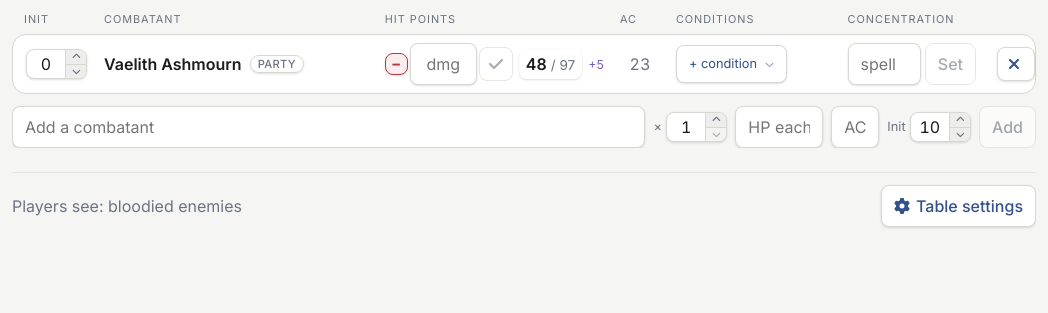
Test: the DM board › takes deltas first — damage, +heal — with direct set as the hatch
Type "Ogre" into the field named "Combatant name" at (329,127), box [12,106,645,148]
Type "59" into the field named "Hit points each (optional)" at (779,127), box [735,106,823,148]
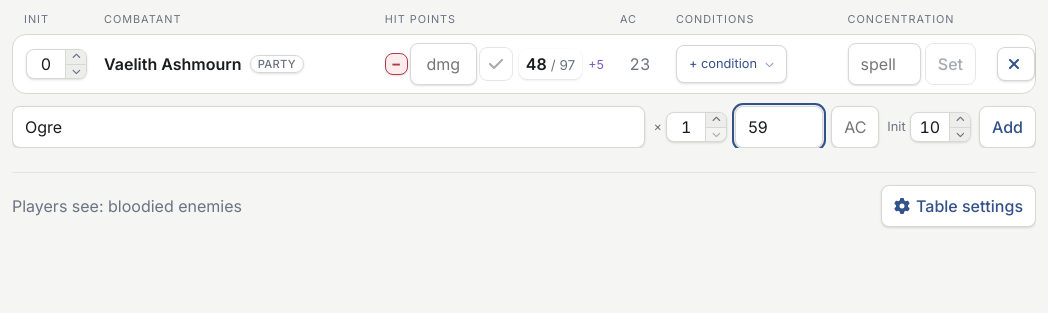
Click the button "Add" at (1008,127), box [979,106,1036,148]
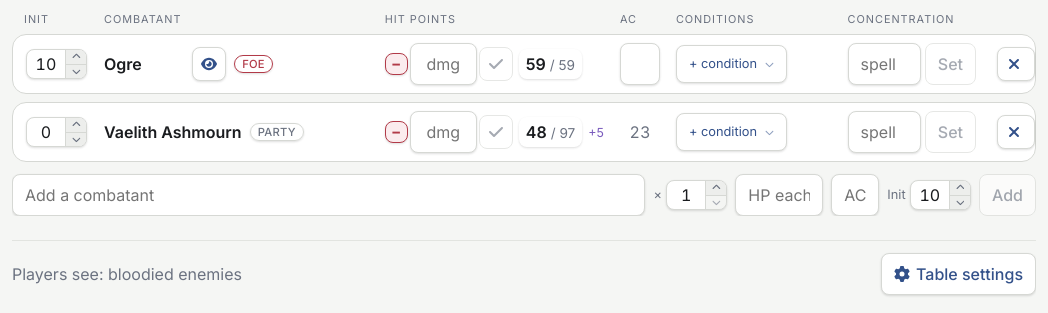
Type "13" into the field named "Damage to Ogre" at (443,64), box [410,43,477,85]
Then press Enter
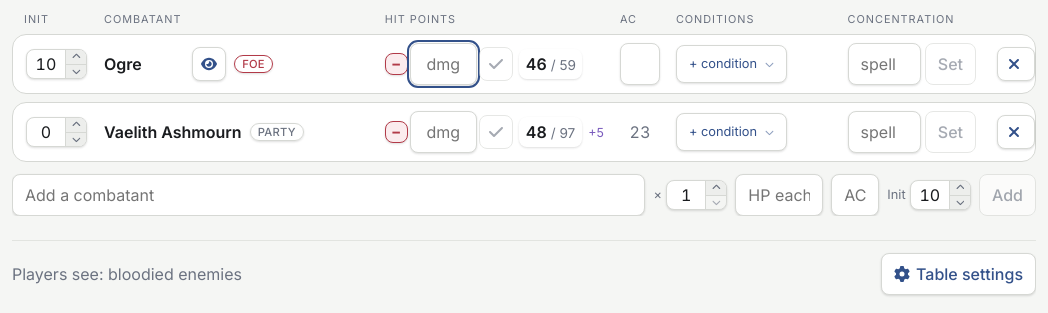
Expected: the button named "Set Ogre hit points directly" reads "46 / 59", [519,49,582,79]
Type "+5" into the field named "Damage to Ogre" at (443,64), box [410,43,477,85]
Then press Enter
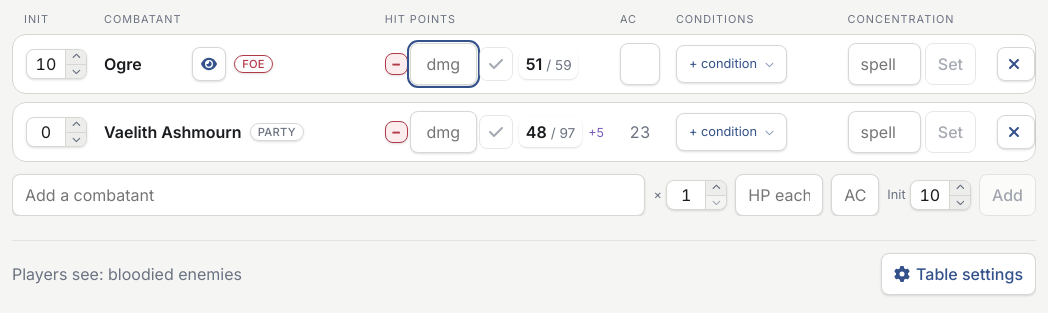
Expected: the button named "Set Ogre hit points directly" reads "51 / 59"
Click the button named "Set Ogre hit points directly" at (549,64), box [519,49,578,79]
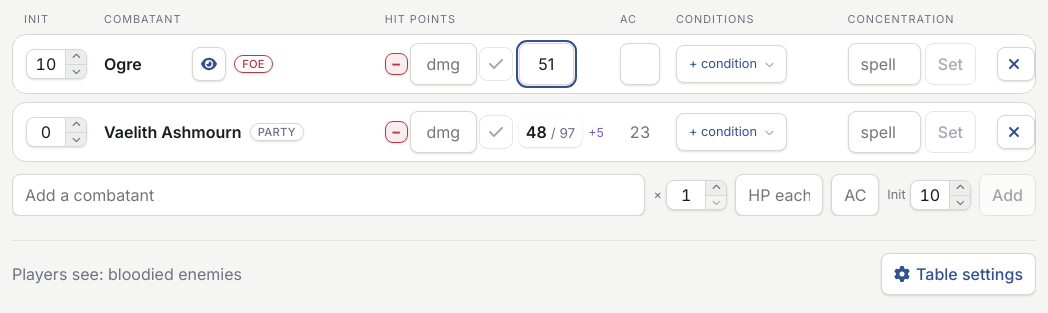
Replace the text in the field named "Ogre hit points" with "59" at (546,64), box [519,43,574,85]
Then press Enter
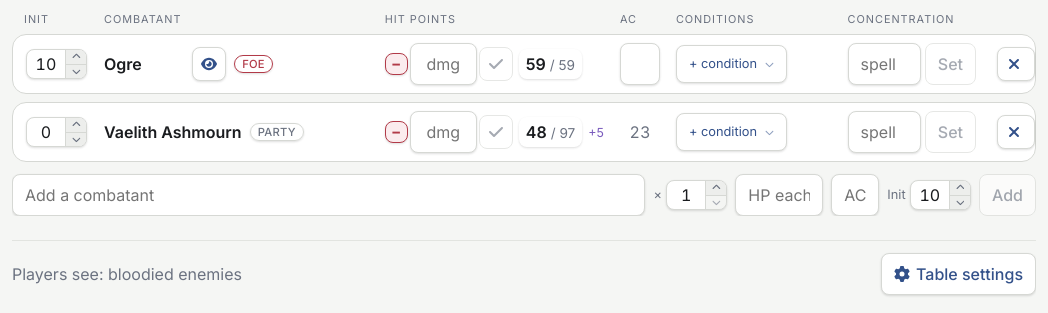
Expected: the button named "Set Ogre hit points directly" reads "59 / 59", [519,49,582,79]
